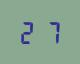seven: (40, 20, 60, 44)
two: (19, 20, 39, 44)
